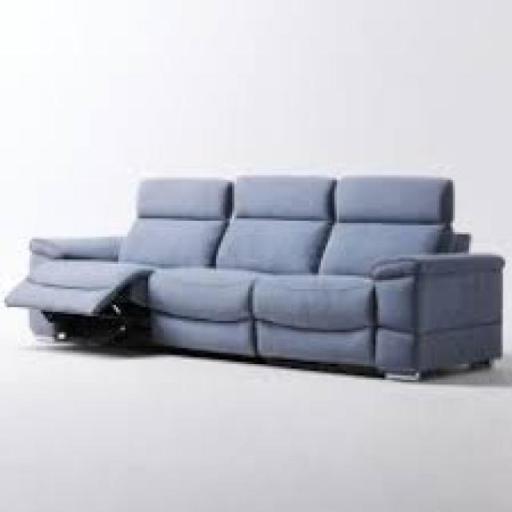sofa: (6, 143, 508, 419)
